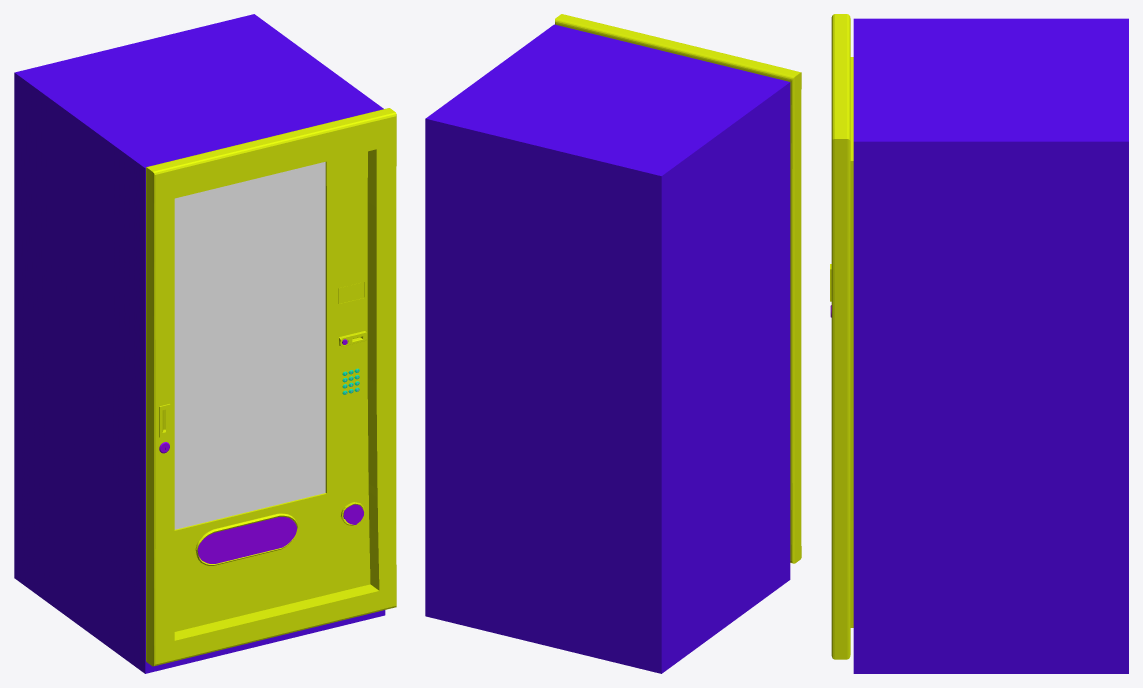
File: DrinkVendingMachine.FBX
3 views of the same model, side by side, from view 1: azimuth 30°, elevation 25°; view 2: azimuth 150°, elevation 25°; view 3: azimuth 270°, elevation 25° (orthographic). The views are drawn at different scales.
Visible parts, largest first — view 1: Vending Machine Body, Vending MachineDoor, VendingMachineGlass, Vending Machine Acc; view 2: Vending Machine Body, Vending MachineDoor; view 3: Vending Machine Body, Vending MachineDoor.
Part boxes in pixels (<box>): Vending Machine Body: <box>14,14,385,673</box>; Vending MachineDoor: <box>146,108,396,666</box>; VendingMachineGlass: <box>174,162,325,529</box>; Vending Machine Acc: <box>159,339,363,563</box>; Vending Machine Body: <box>425,24,790,673</box>; Vending MachineDoor: <box>555,14,801,563</box>; Vending Machine Body: <box>853,18,1128,673</box>; Vending MachineDoor: <box>830,14,853,659</box>.
Size of the model in its own units: 100 by 200 by 101.
